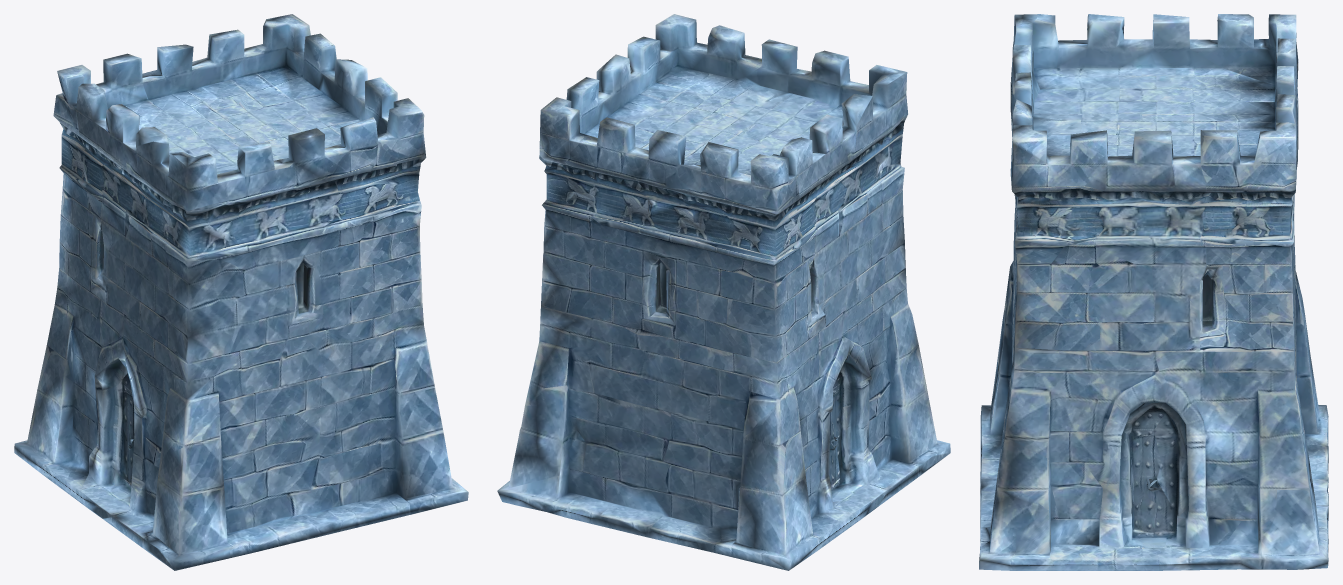
The model's file is castle_tower_short_diamond_ice.glb.
3 renders of one model, left to right at view 1: azimuth 30°, elevation 25°; view 2: azimuth 150°, elevation 25°; view 3: azimuth 270°, elevation 25°, orthographic. The views are drawn at different scales.
Parts seen in each view (by area): view 1: tripo_node_f10a9591-352f-49a5-af4e-032c85d5f865; view 2: tripo_node_f10a9591-352f-49a5-af4e-032c85d5f865; view 3: tripo_node_f10a9591-352f-49a5-af4e-032c85d5f865.
Boxes of the visible parts, left/top/right/bottom form: tripo_node_f10a9591-352f-49a5-af4e-032c85d5f865: left=14, top=14, right=468, bottom=570; tripo_node_f10a9591-352f-49a5-af4e-032c85d5f865: left=497, top=14, right=950, bottom=570; tripo_node_f10a9591-352f-49a5-af4e-032c85d5f865: left=979, top=14, right=1328, bottom=570.
Bounding box in the file's own units: 0.7746 × 0.979 × 0.7423.
Materials: 1 (1 with a texture image).
